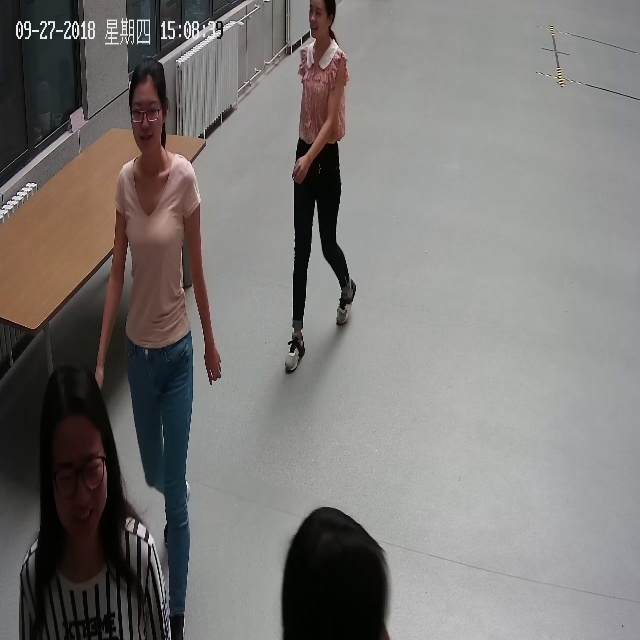head: (41, 370, 126, 551), (280, 500, 394, 634), (122, 52, 175, 152), (303, 0, 342, 49)
